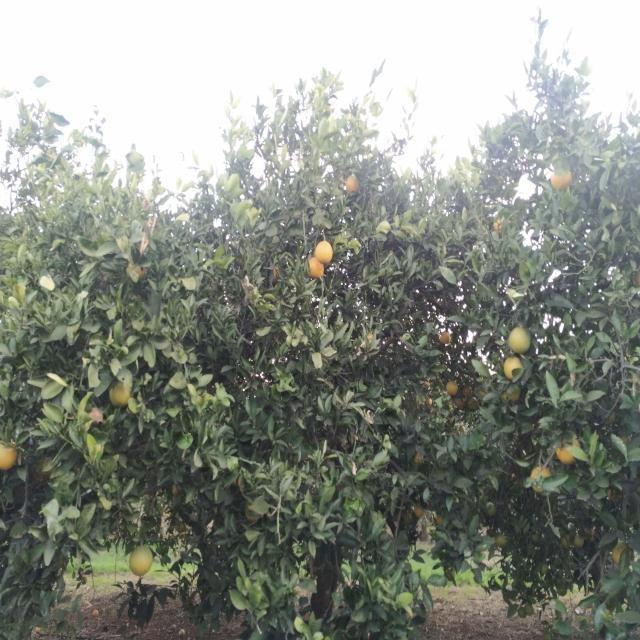Jeruk Belum Matang: (130, 544, 153, 576), (110, 382, 134, 409), (509, 327, 531, 354), (486, 502, 496, 518), (496, 534, 506, 547), (574, 536, 584, 548)
Jeruk Sudah Matang: (555, 437, 582, 465), (531, 466, 553, 494), (0, 440, 18, 470), (504, 356, 524, 382), (613, 542, 635, 564), (315, 240, 334, 265), (552, 171, 572, 190), (308, 257, 324, 280), (128, 264, 146, 280), (346, 174, 359, 193), (494, 217, 505, 234), (446, 380, 458, 395), (440, 331, 451, 345)
